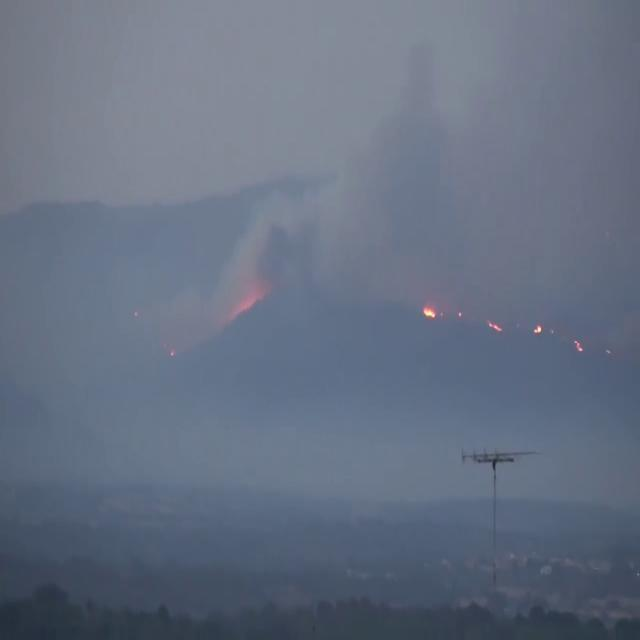Fire: (229, 277, 269, 325), (422, 303, 436, 318), (488, 316, 501, 332), (573, 336, 583, 351), (534, 321, 542, 335), (168, 348, 177, 359), (132, 306, 138, 319)
Smoke: (316, 146, 438, 316), (0, 520, 320, 582), (207, 178, 318, 334), (158, 276, 209, 361)
